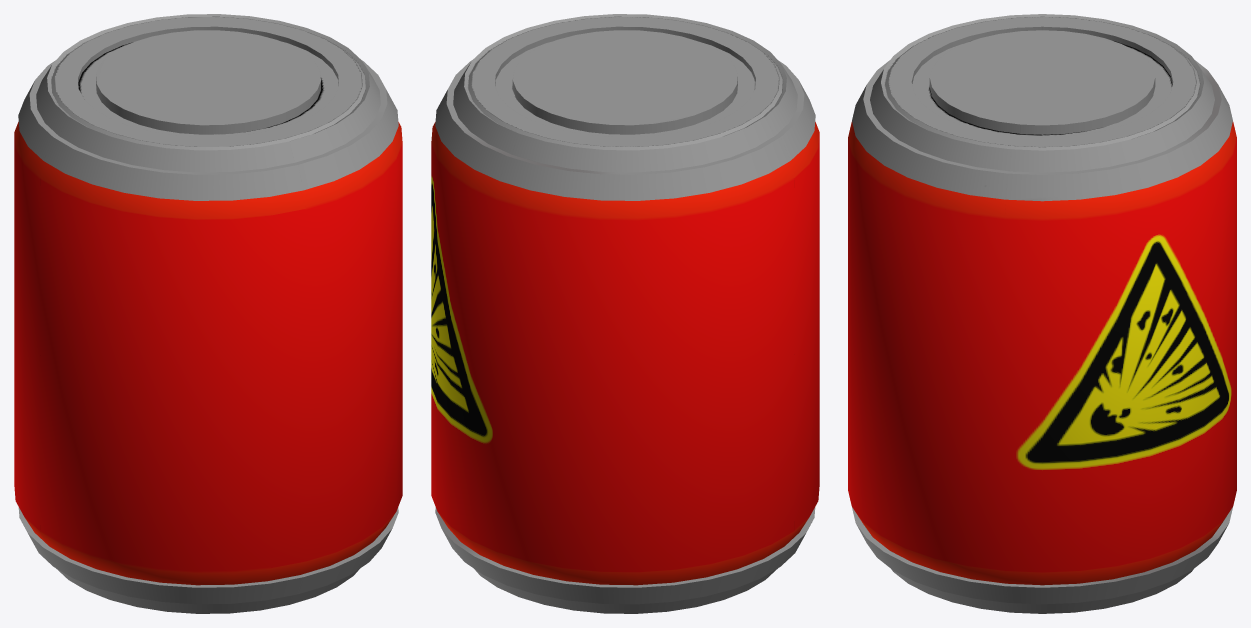
File: Canister.dae
The picture shows the model from 3 angles, left to right: view 1: azimuth 30°, elevation 25°; view 2: azimuth 150°, elevation 25°; view 3: azimuth 270°, elevation 25°; orthographic projection.
Parts seen in each view (by area): view 1: Canister; view 2: Canister; view 3: Canister.
Part boxes in pixels (box(x1,y1,x2,y2)): Canister: box(14, 14, 402, 613); Canister: box(431, 14, 819, 613); Canister: box(848, 14, 1236, 613).
Size of what is drawn, in the model's own units: 0.3851 by 0.3851 by 0.516.
